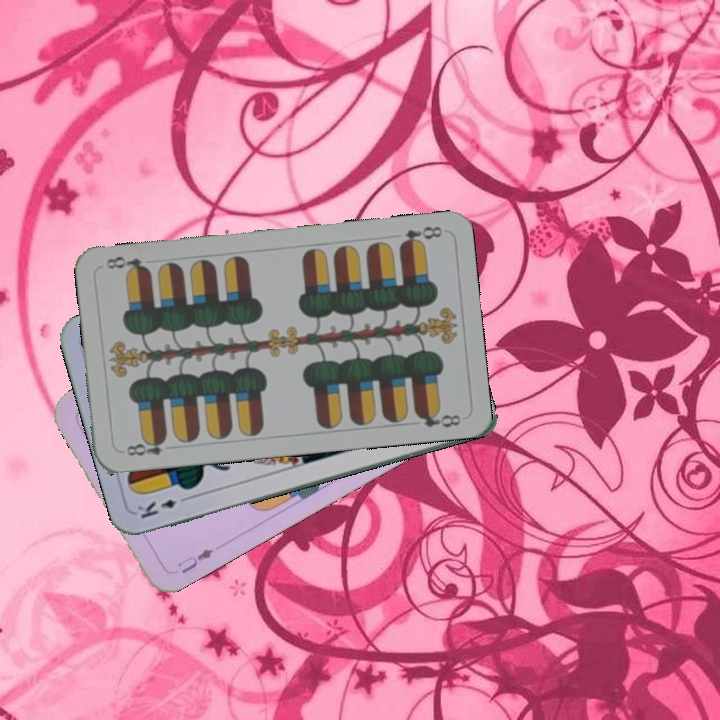E8: (122, 433, 177, 459), (396, 222, 446, 250)
EK: (133, 492, 192, 522)
EU: (172, 544, 216, 577)
